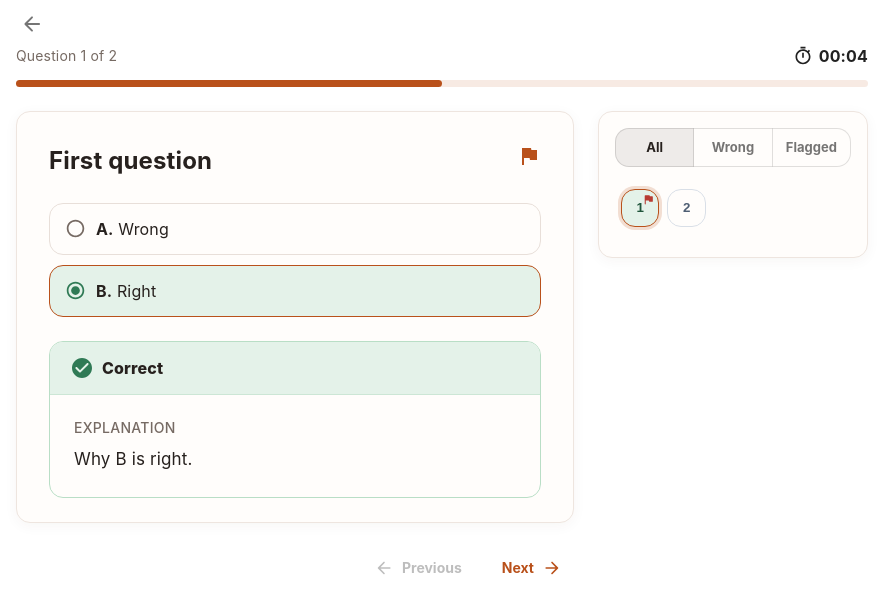
Test: QuizReviewScreen › shows a clear empty state for the Wrong filter
This screenshot has width=885, height=592.
Click the button with aria-label "Wrong questions, 0": x=733, y=147 x1=693 y1=128 x2=773 y2=167
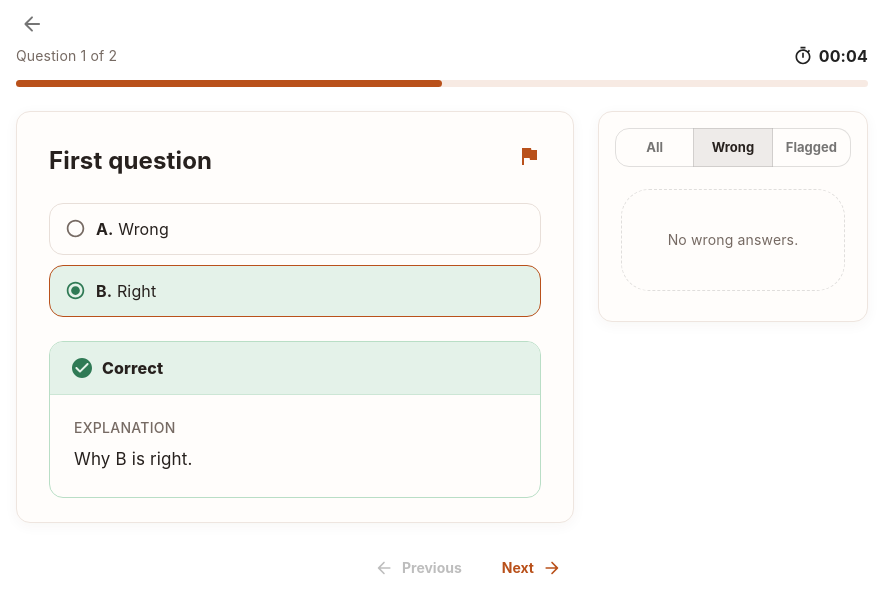
Expected: the text "No wrong answers." is shown, x1=668 y1=231 x2=798 y2=248
